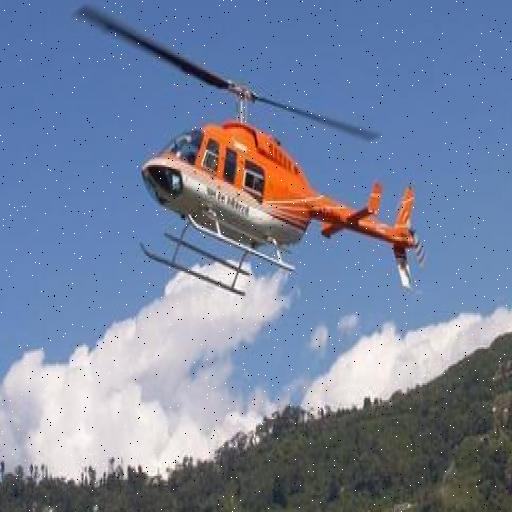helicopter: (68, 5, 408, 321)
